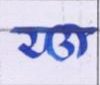i_matra: (70, 24, 85, 57)
